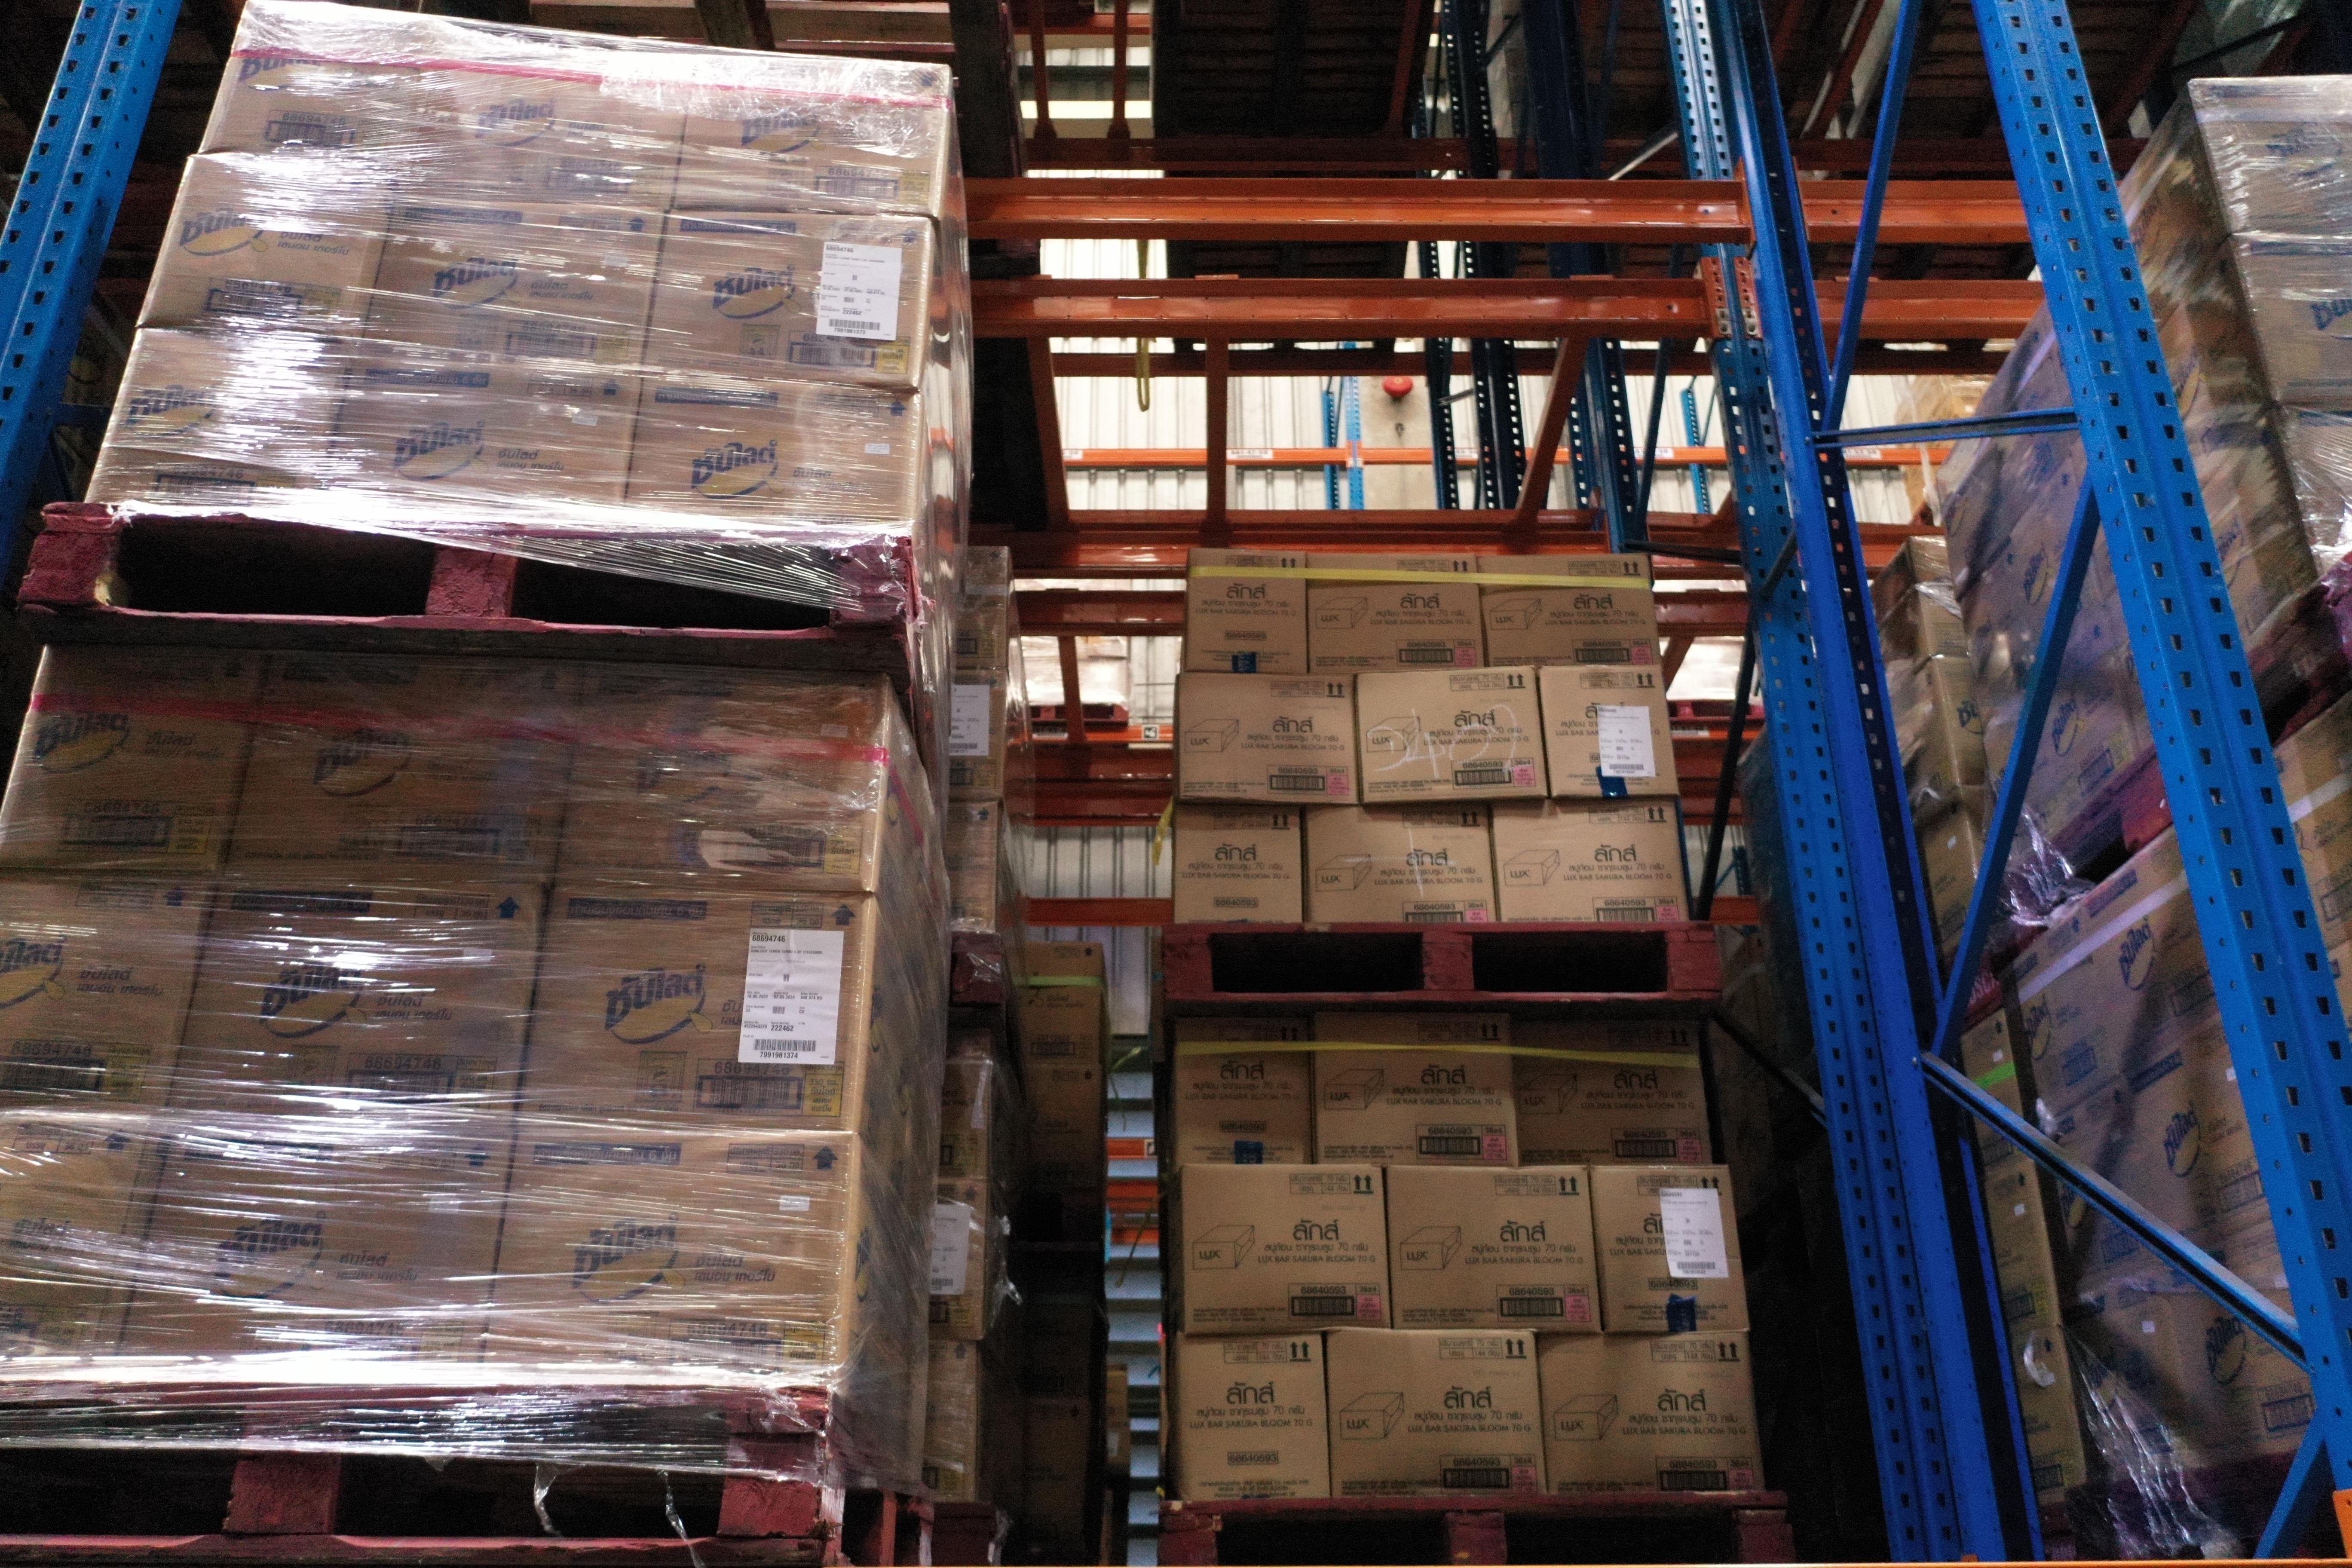-: (112, 1109, 518, 1382), (474, 1115, 859, 1391), (163, 878, 544, 1120), (215, 647, 584, 889), (514, 887, 873, 1132), (549, 660, 887, 896), (0, 632, 266, 882), (311, 350, 644, 534), (394, 19, 696, 213), (350, 194, 667, 374), (640, 206, 931, 388), (86, 327, 360, 518), (0, 873, 217, 1115), (135, 149, 402, 341), (621, 369, 917, 535), (0, 1102, 173, 1386), (667, 49, 950, 217), (2186, 73, 2352, 236), (2229, 233, 2352, 415), (2273, 399, 2352, 577)
box: (1533, 1330, 1764, 1503), (1326, 1330, 1550, 1498), (1384, 1164, 1601, 1333), (1185, 1164, 1393, 1339), (1312, 1011, 1519, 1169), (1508, 1017, 1713, 1167), (1591, 1165, 1752, 1337), (1356, 665, 1549, 807), (1491, 793, 1690, 927), (1176, 1333, 1330, 1507), (1179, 668, 1360, 807), (1171, 1010, 1314, 1176), (1305, 801, 1496, 926), (1307, 551, 1487, 677), (1479, 553, 1661, 670), (1542, 665, 1678, 796), (1171, 800, 1305, 927), (1186, 548, 1309, 677)
